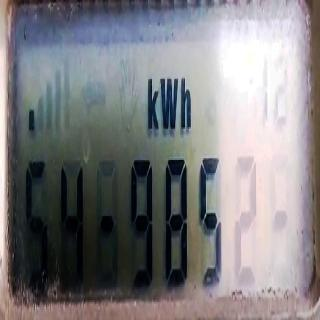-: (99, 210, 114, 237), (29, 108, 36, 132)
2: (232, 148, 259, 292)
4: (58, 148, 88, 290)
5: (197, 148, 225, 296), (24, 144, 50, 301)
8: (163, 148, 190, 299)
9: (126, 150, 156, 296)
